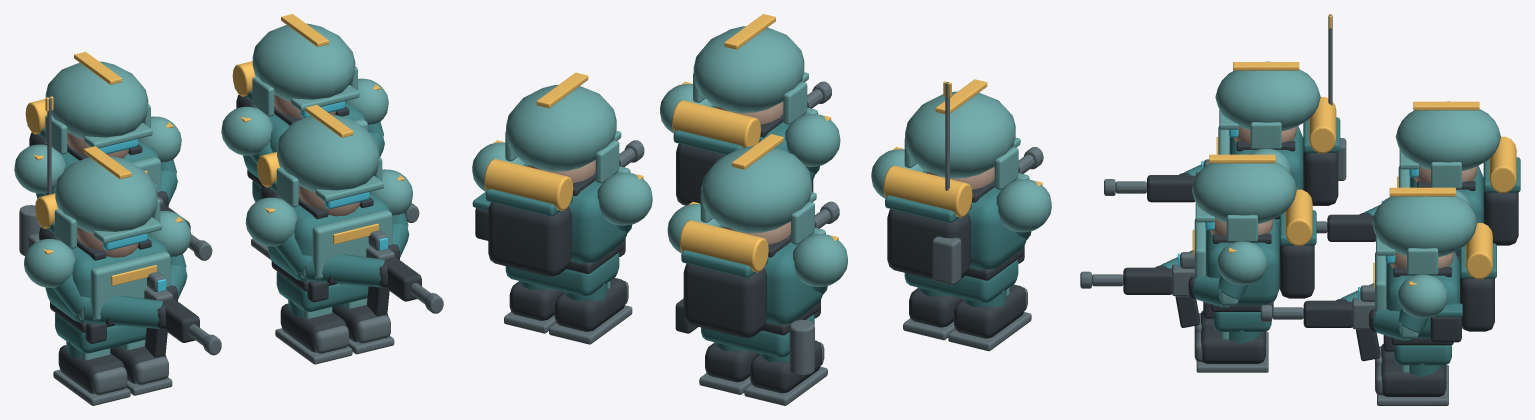
Rendered from meridian-infantry-squad.glb.
The picture shows the model from 3 angles, left to right: view 1: azimuth 30°, elevation 25°; view 2: azimuth 150°, elevation 25°; view 3: azimuth 270°, elevation 25°; orthographic projection. The views are drawn at different scales.
Parts seen in each view (by area): view 1: Soldier1_BodyMesh, Soldier2_BodyMesh, Soldier3_BodyMesh, Soldier4_BodyMesh, Soldier1_ArmsMesh, Soldier2_ArmsMesh, Soldier1_LegLeftMesh, Soldier2_LegLeftMesh, Soldier1_LegRightMesh, Soldier2_LegRightMesh, Soldier3_ArmsMesh, Soldier4_ArmsMesh; view 2: Soldier3_BodyMesh, Soldier4_BodyMesh, Soldier1_BodyMesh, Soldier2_BodyMesh, Soldier4_LegLeftMesh, Soldier1_LegLeftMesh, Soldier3_LegLeftMesh, Soldier3_LegRightMesh, Soldier4_LegRightMesh, Soldier1_LegRightMesh, Soldier4_ArmsMesh, Soldier1_ArmsMesh (+2 smaller); view 3: Soldier4_BodyMesh, Soldier2_BodyMesh, Soldier1_BodyMesh, Soldier3_BodyMesh, Soldier2_ArmsMesh, Soldier4_ArmsMesh, Soldier2_LegRightMesh, Soldier4_LegRightMesh, Soldier1_ArmsMesh, Soldier3_ArmsMesh.
Part boxes in pixels (x1,y1,x2,y2): Soldier1_BodyMesh: [24, 96, 191, 353]; Soldier2_BodyMesh: [245, 105, 412, 312]; Soldier3_BodyMesh: [14, 52, 181, 255]; Soldier4_BodyMesh: [221, 14, 388, 202]; Soldier1_ArmsMesh: [53, 254, 221, 357]; Soldier2_ArmsMesh: [275, 212, 443, 315]; Soldier1_LegLeftMesh: [53, 341, 130, 405]; Soldier2_LegLeftMesh: [275, 300, 352, 364]; Soldier1_LegRightMesh: [110, 339, 172, 395]; Soldier2_LegRightMesh: [332, 298, 394, 354]; Soldier3_ArmsMesh: [43, 159, 212, 260]; Soldier4_ArmsMesh: [250, 121, 419, 222]; Soldier3_BodyMesh: [667, 134, 847, 376]; Soldier4_BodyMesh: [472, 72, 652, 296]; Soldier1_BodyMesh: [871, 79, 1051, 303]; Soldier2_BodyMesh: [660, 14, 840, 205]; Soldier4_LegLeftMesh: [549, 277, 632, 344]; Soldier1_LegLeftMesh: [948, 284, 1031, 351]; Soldier3_LegLeftMesh: [744, 340, 827, 405]; Soldier3_LegRightMesh: [699, 342, 758, 394]; Soldier4_LegRightMesh: [504, 281, 563, 333]; Soldier1_LegRightMesh: [903, 287, 962, 340]; Soldier4_ArmsMesh: [616, 140, 644, 234]; Soldier1_ArmsMesh: [1016, 147, 1043, 240]; Soldier4_BodyMesh: [1372, 187, 1496, 365]; Soldier2_BodyMesh: [1191, 154, 1316, 332]; Soldier1_BodyMesh: [1215, 14, 1346, 229]; Soldier3_BodyMesh: [1395, 101, 1520, 262]; Soldier2_ArmsMesh: [1080, 250, 1277, 327]; Soldier4_ArmsMesh: [1260, 283, 1428, 361]; Soldier2_LegRightMesh: [1194, 328, 1268, 372]; Soldier4_LegRightMesh: [1375, 361, 1448, 405]; Soldier1_ArmsMesh: [1104, 159, 1209, 202]; Soldier3_ArmsMesh: [1316, 200, 1383, 241].
Size of the model in its own units: 2.24 by 1.26 by 2.12.
